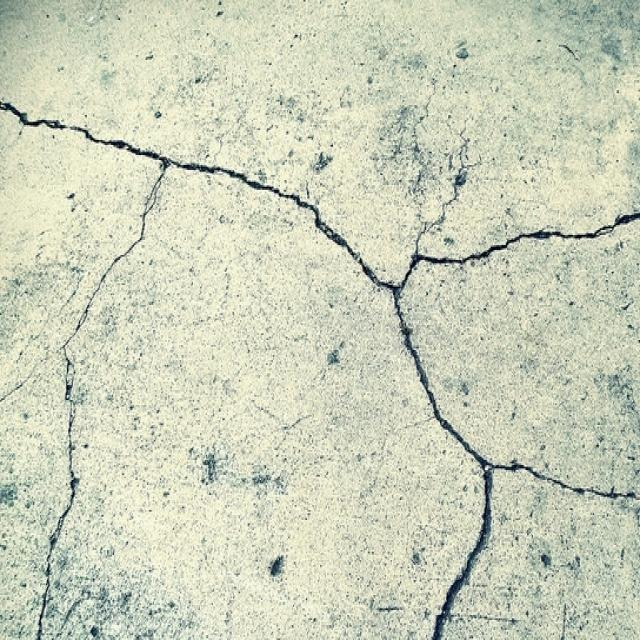Turtle-shell patterned: (8, 83, 640, 640)
